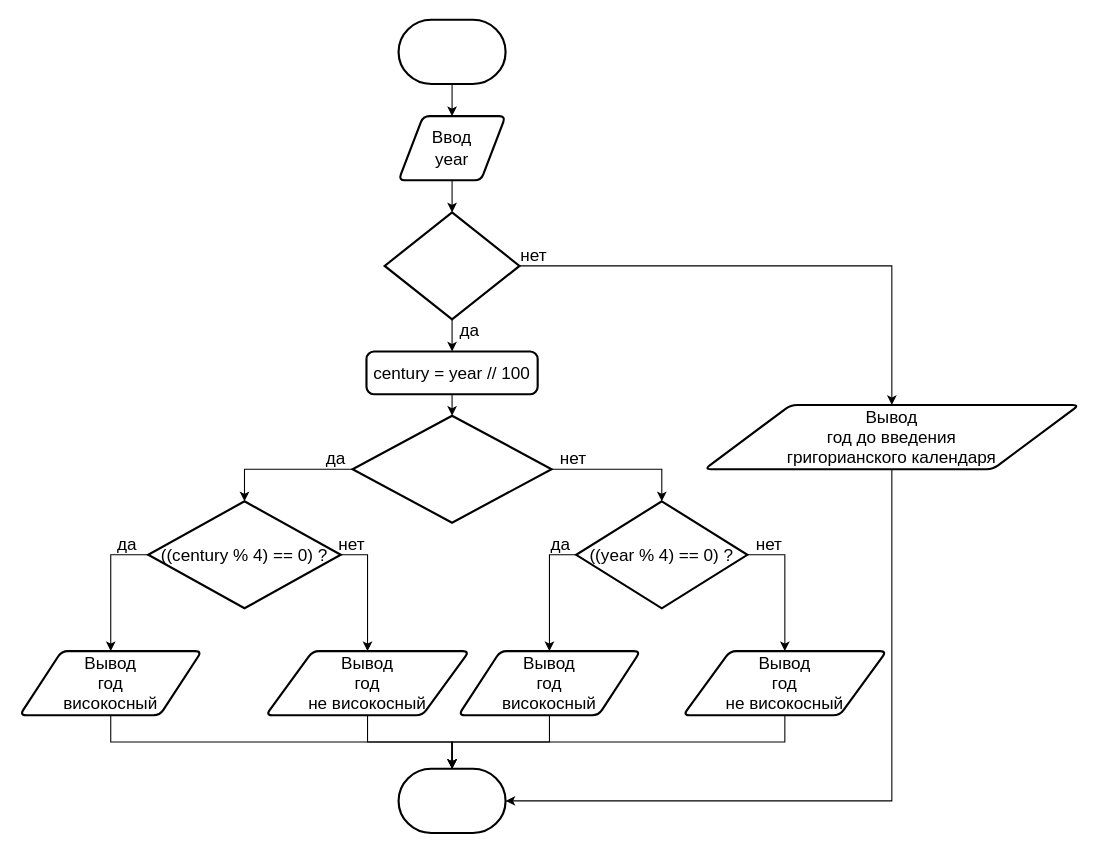
This 1098x852 diagram has some shape labels left out. Here are the shapes that lost their labels. From the top down, the box of each, then its label:
(397, 18, 506, 85): Начало
(383, 211, 520, 320): year < 1582 ?
(351, 414, 552, 523): ((year % 100) == 0) ?
(397, 767, 506, 834): Конец
